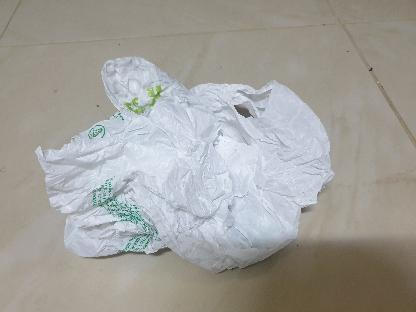Plastic Bag: (34, 54, 338, 274)
